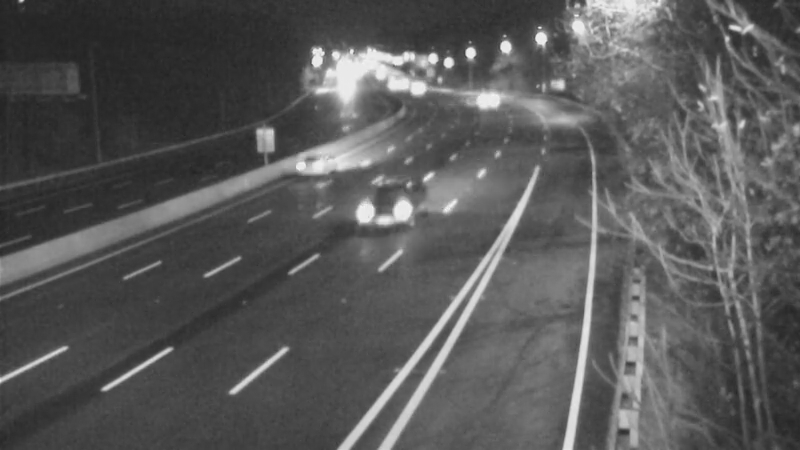vehicle: (262, 128, 342, 208), (360, 164, 440, 244), (389, 62, 439, 112), (460, 75, 510, 125)
